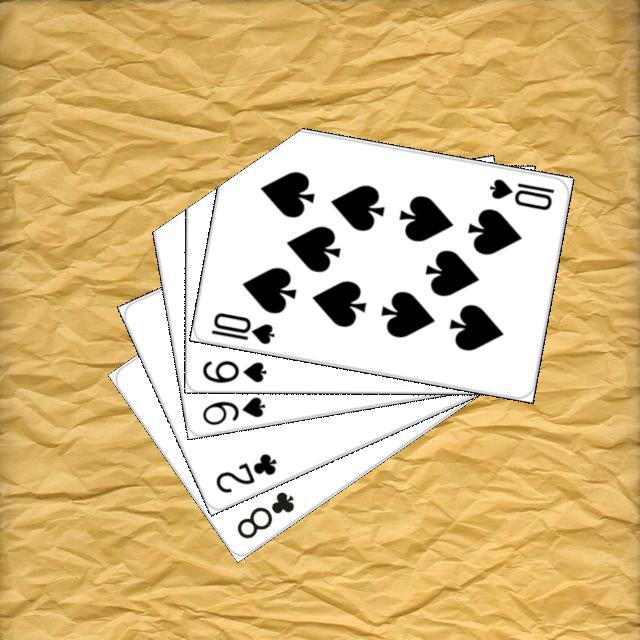10s: (484, 173, 556, 212), (206, 307, 276, 346)
2c: (210, 448, 279, 495)
6s: (198, 355, 268, 384)
8c: (231, 486, 296, 541)
9s: (197, 391, 267, 427)
